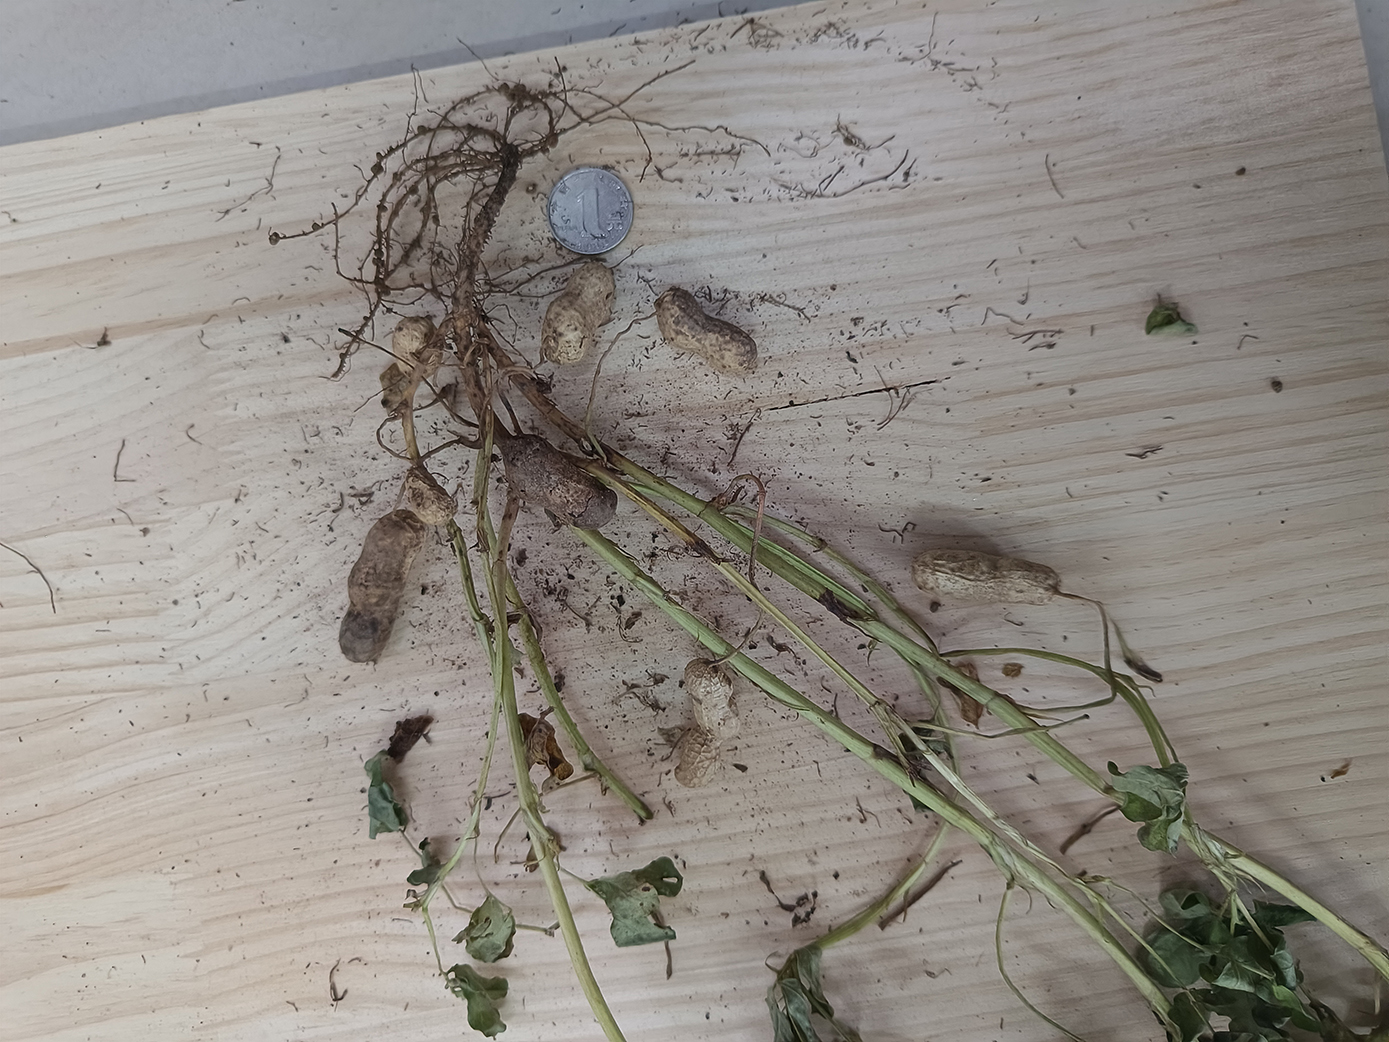h: (913, 546, 1061, 610), (670, 659, 740, 788), (656, 288, 759, 375), (543, 263, 615, 367), (394, 321, 443, 380), (404, 472, 455, 524)
l: (342, 513, 424, 664), (501, 432, 618, 532)
